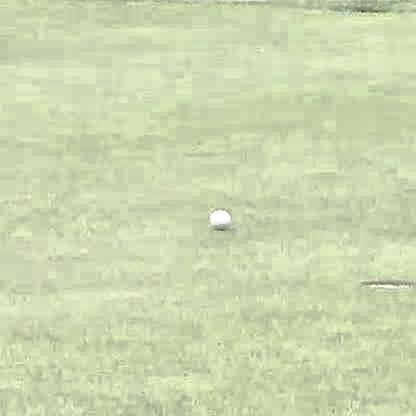golfball: (205, 206, 228, 229)
